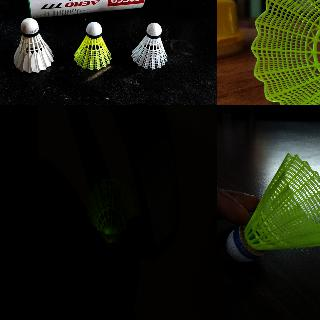15: (73, 21, 111, 69)
shuttlecock: (227, 154, 319, 262), (250, 0, 319, 104), (86, 178, 134, 250)
